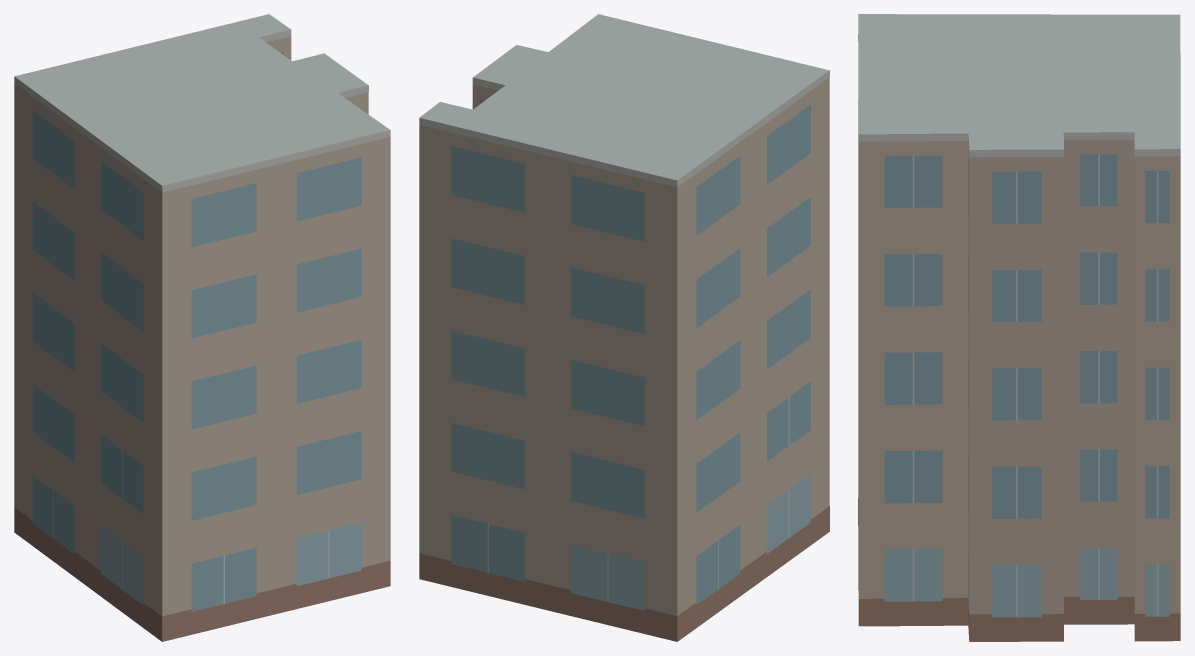
Rendered from survey-upis-32798493.glb.
3 renders of one model, left to right at view 1: azimuth 30°, elevation 25°; view 2: azimuth 150°, elevation 25°; view 3: azimuth 270°, elevation 25°, orthographic. The views are drawn at different scales.
Visible parts, largest first — view 1: survey-upis-32798493.tmp; view 2: survey-upis-32798493.tmp; view 3: survey-upis-32798493.tmp.
Boxes of the visible parts, x1,y1,x2,y2 form: survey-upis-32798493.tmp: [14, 14, 390, 641]; survey-upis-32798493.tmp: [419, 14, 829, 641]; survey-upis-32798493.tmp: [858, 14, 1180, 641].
Size of the model in its own units: 9.69 by 16.35 by 9.72.
